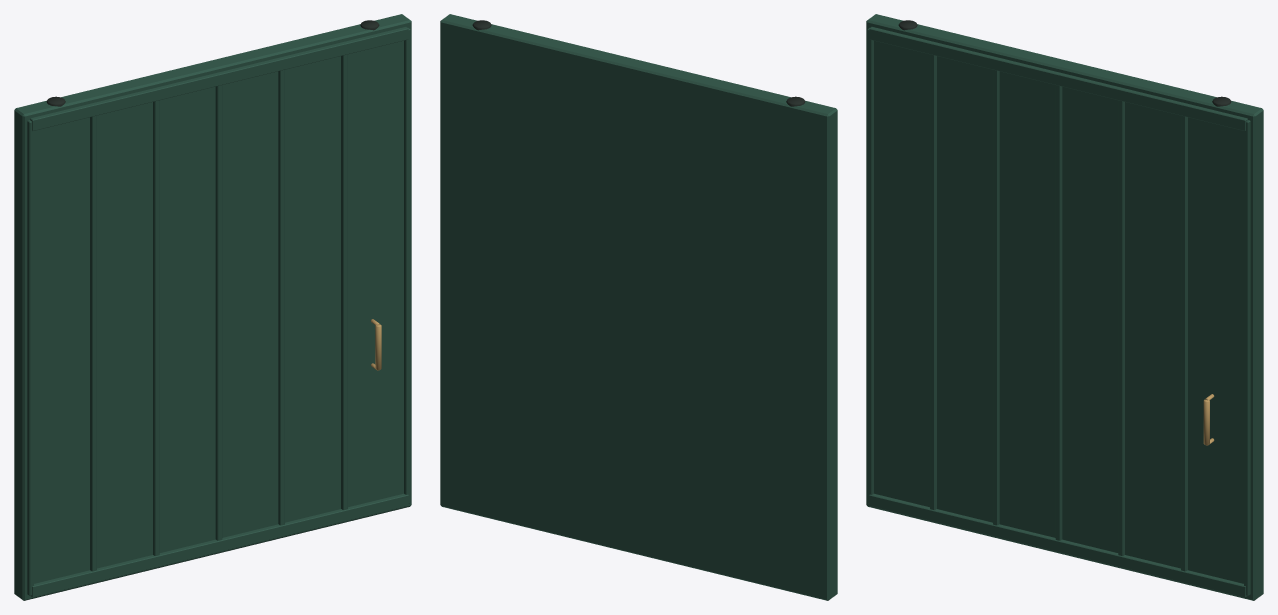
File: workshop-door-v1.glb
3 renders of one model, left to right at view 1: azimuth 30°, elevation 25°; view 2: azimuth 150°, elevation 25°; view 3: azimuth 330°, elevation 25°, orthographic.
Visible parts, largest first — view 1: door__greensteel; view 2: door__greensteel; view 3: door__greensteel.
Part boxes in pixels (x1=…): door__greensteel: x1=14, y1=14, x2=411, y2=600; door__greensteel: x1=440, y1=14, x2=837, y2=600; door__greensteel: x1=866, y1=14, x2=1263, y2=600.
Bounding box in the file's own units: 3.6 × 4.32 × 0.296.
